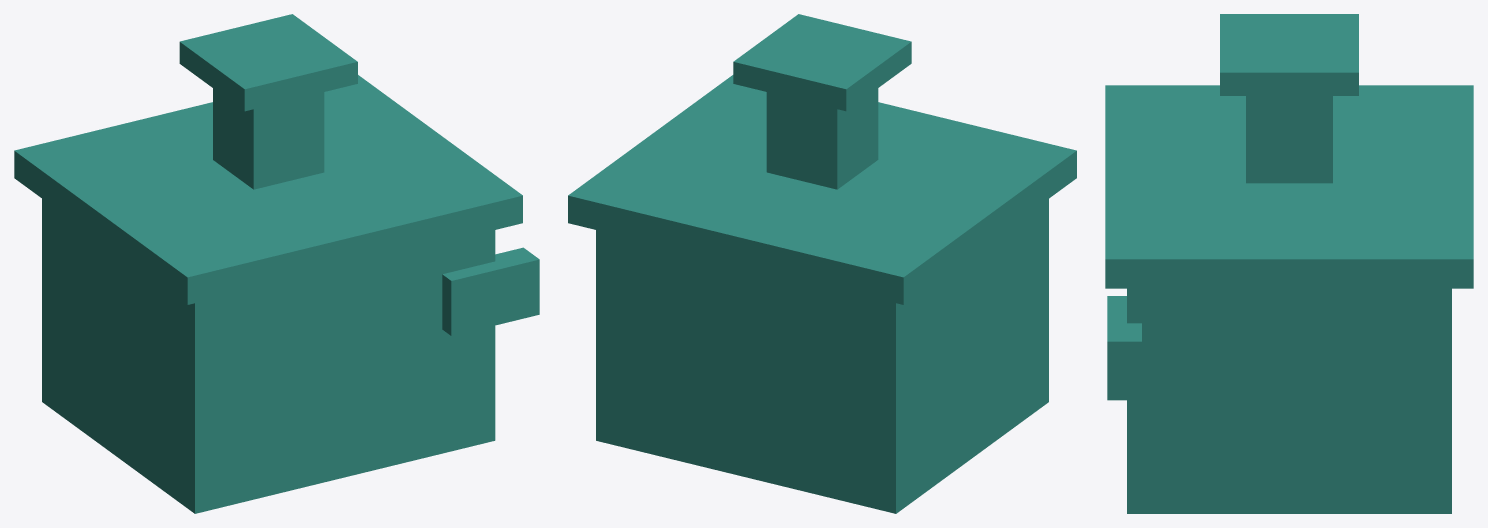
Rendered from steamer.glb.
The picture shows the model from 3 angles, left to right: view 1: azimuth 30°, elevation 25°; view 2: azimuth 150°, elevation 25°; view 3: azimuth 270°, elevation 25°; orthographic projection. The views are drawn at different scales.
Visible parts, largest first — view 1: module.steamer; view 2: module.steamer; view 3: module.steamer.
Boxes of the visible parts, x1,y1,x2,y2 form: module.steamer: [14, 14, 539, 513]; module.steamer: [568, 14, 1076, 513]; module.steamer: [1105, 14, 1473, 513].
Size of the model in its own units: 1 by 1 by 0.85.
